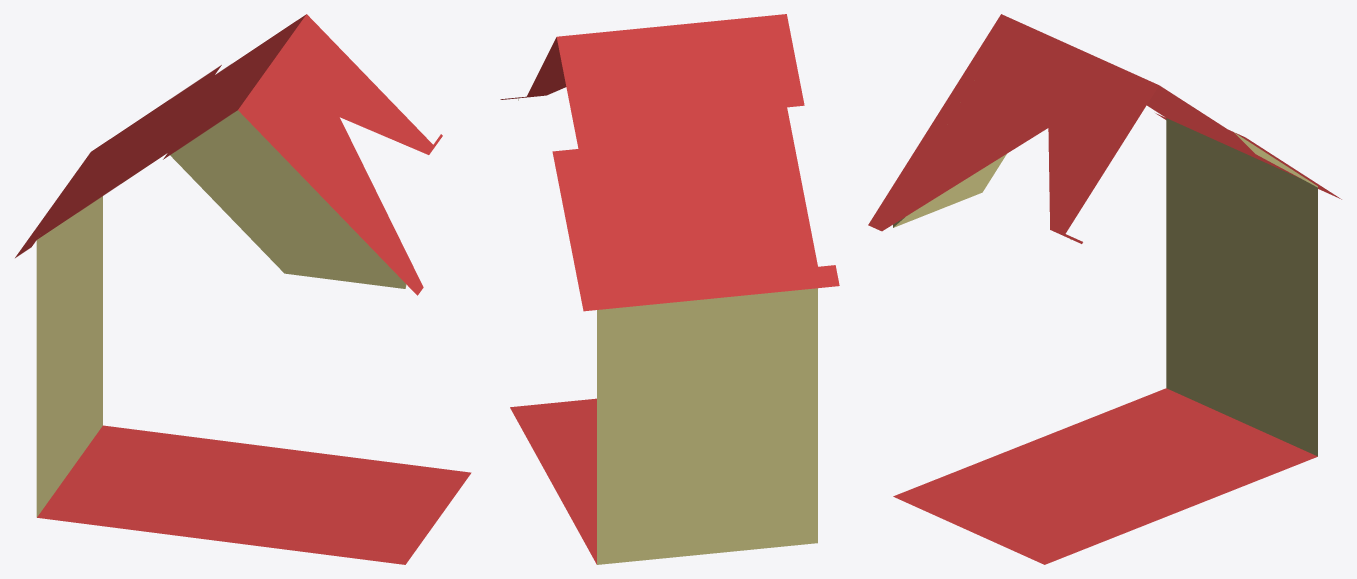
The picture shows the model from 3 angles, left to right: view 1: azimuth 30°, elevation 25°; view 2: azimuth 150°, elevation 25°; view 3: azimuth 270°, elevation 25°; orthographic projection. The views are drawn at different scales.
Bounding box in the file's own units: 12.62 × 13.53 × 13.49.
